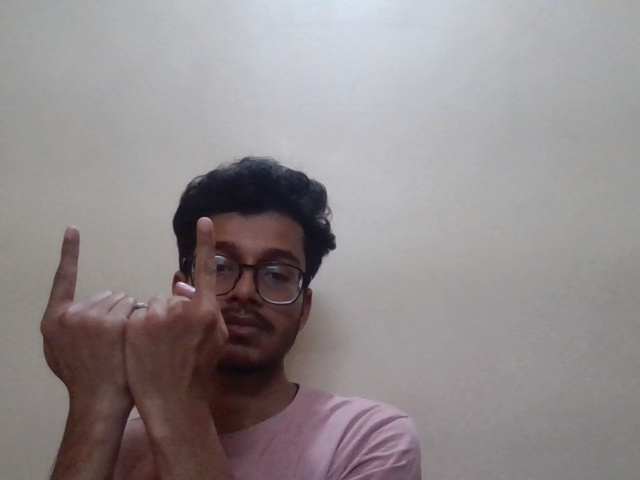when: (21, 214, 251, 373)
